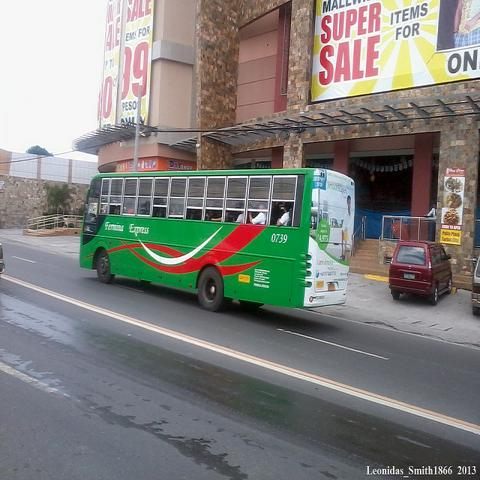bus: (78, 168, 358, 320)
car: (388, 241, 453, 304), (472, 254, 479, 316)
